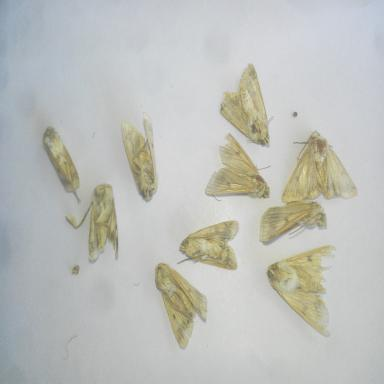abw: (264, 240, 340, 339), (279, 128, 360, 206), (203, 129, 273, 207), (153, 260, 210, 352), (217, 60, 275, 150), (255, 197, 334, 253), (118, 108, 162, 205), (172, 217, 242, 277), (40, 122, 84, 205), (84, 180, 122, 267)
